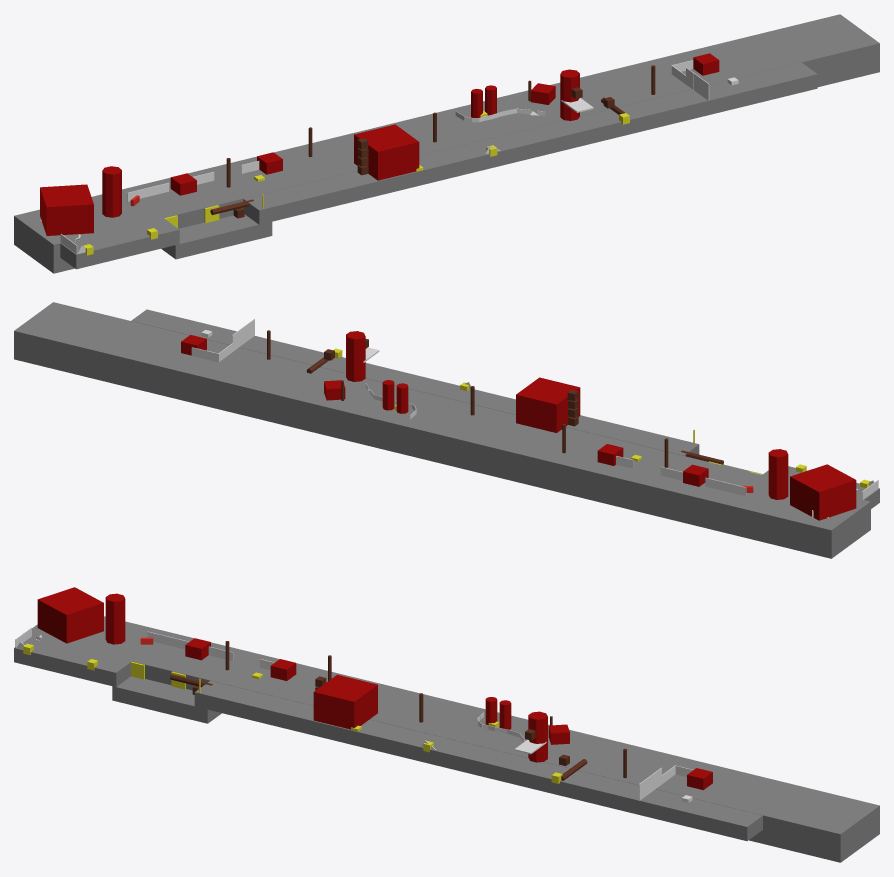
Rendered from map_farm.gltf.
3 renders of one model, top to bottom at view 1: azimuth 30°, elevation 25°; view 2: azimuth 150°, elevation 25°; view 3: azimuth 330°, elevation 25°, orthographic.
Parts seen in each view (by area): view 1: Ground.007, Ground.003, Ground, Ground.002, obstacle_barn, Barn, Silo, Silo.004; view 2: Ground.007, Ground.003, Barn, obstacle_barn, Silo, Silo.004; view 3: Ground.007, Ground.003, Ground, Barn, obstacle_barn, Ground.002, Silo, Silo.004.
Boxes of the visible parts, x1,y1,x2,y2 form: Ground.007: (14,14,879,273); Ground.003: (243,62,817,224); Ground: (60,218,179,269); Ground.002: (161,214,272,259); obstacle_barn: (354,124,419,180); Barn: (40,184,93,235); Silo: (102,166,121,217); Silo.004: (560,69,579,120); Ground.007: (14,302,870,558); Ground.003: (131,309,699,456); Barn: (790,464,856,520); obstacle_barn: (516,377,580,432); Silo: (768,449,788,499); Silo.004: (346,331,365,381); Ground.007: (31,616,879,862); Ground.003: (194,680,762,840); Ground: (14,637,131,686); Barn: (37,587,103,643); obstacle_barn: (313,674,377,729); Ground.002: (112,676,221,723); Silo: (105,593,125,644); Silo.004: (528,711,547,762).
Bounding box in the file's own units: 120 × 10 × 14.41.
